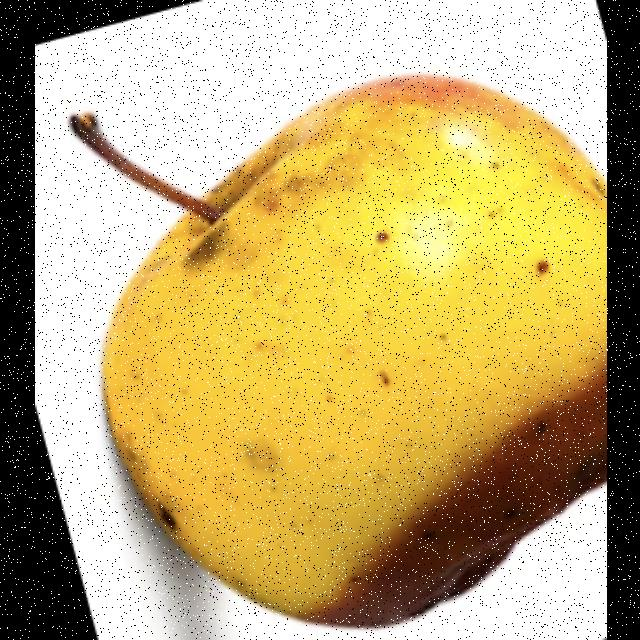Apel Tidak Segar: (50, 11, 606, 640)
